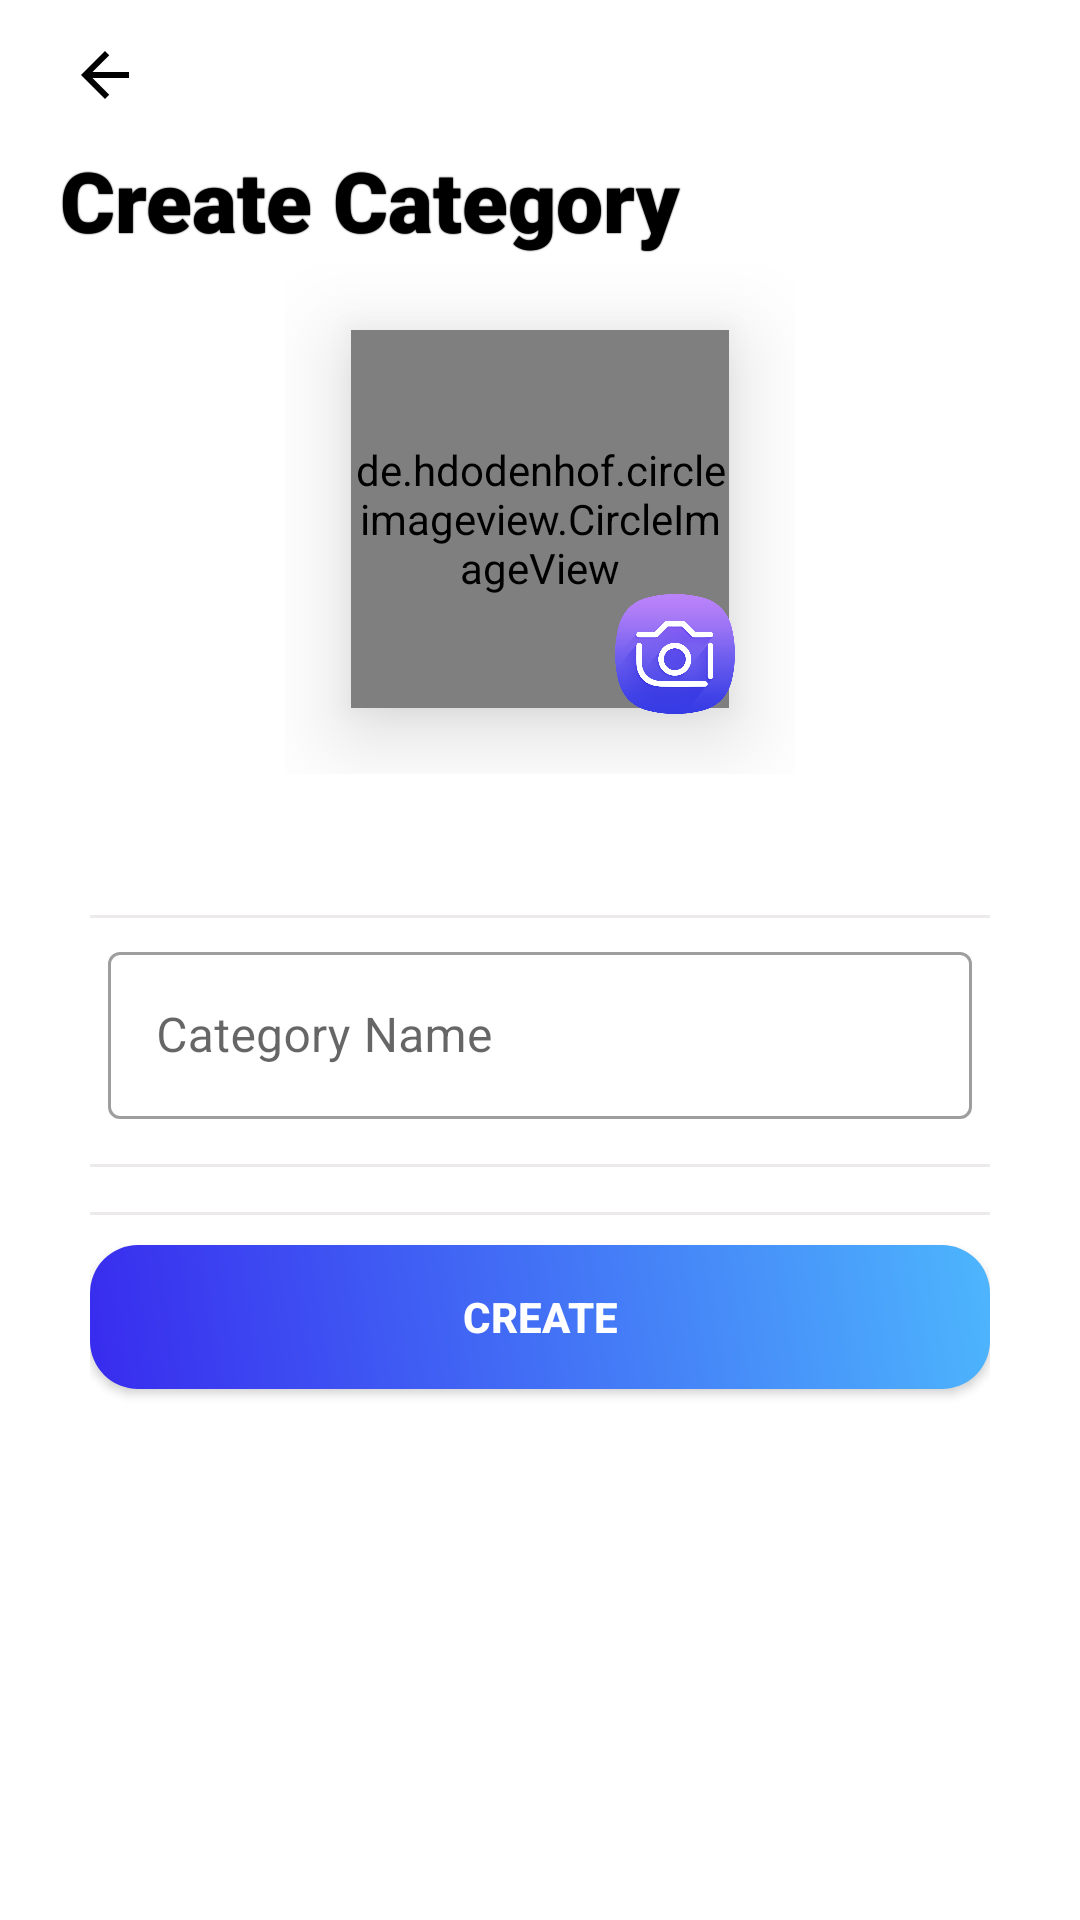

Icon click points for this 1080 × 1920 phone screenshot, format point (x, y):
back button: point (105, 75)
camera: point (675, 654)
